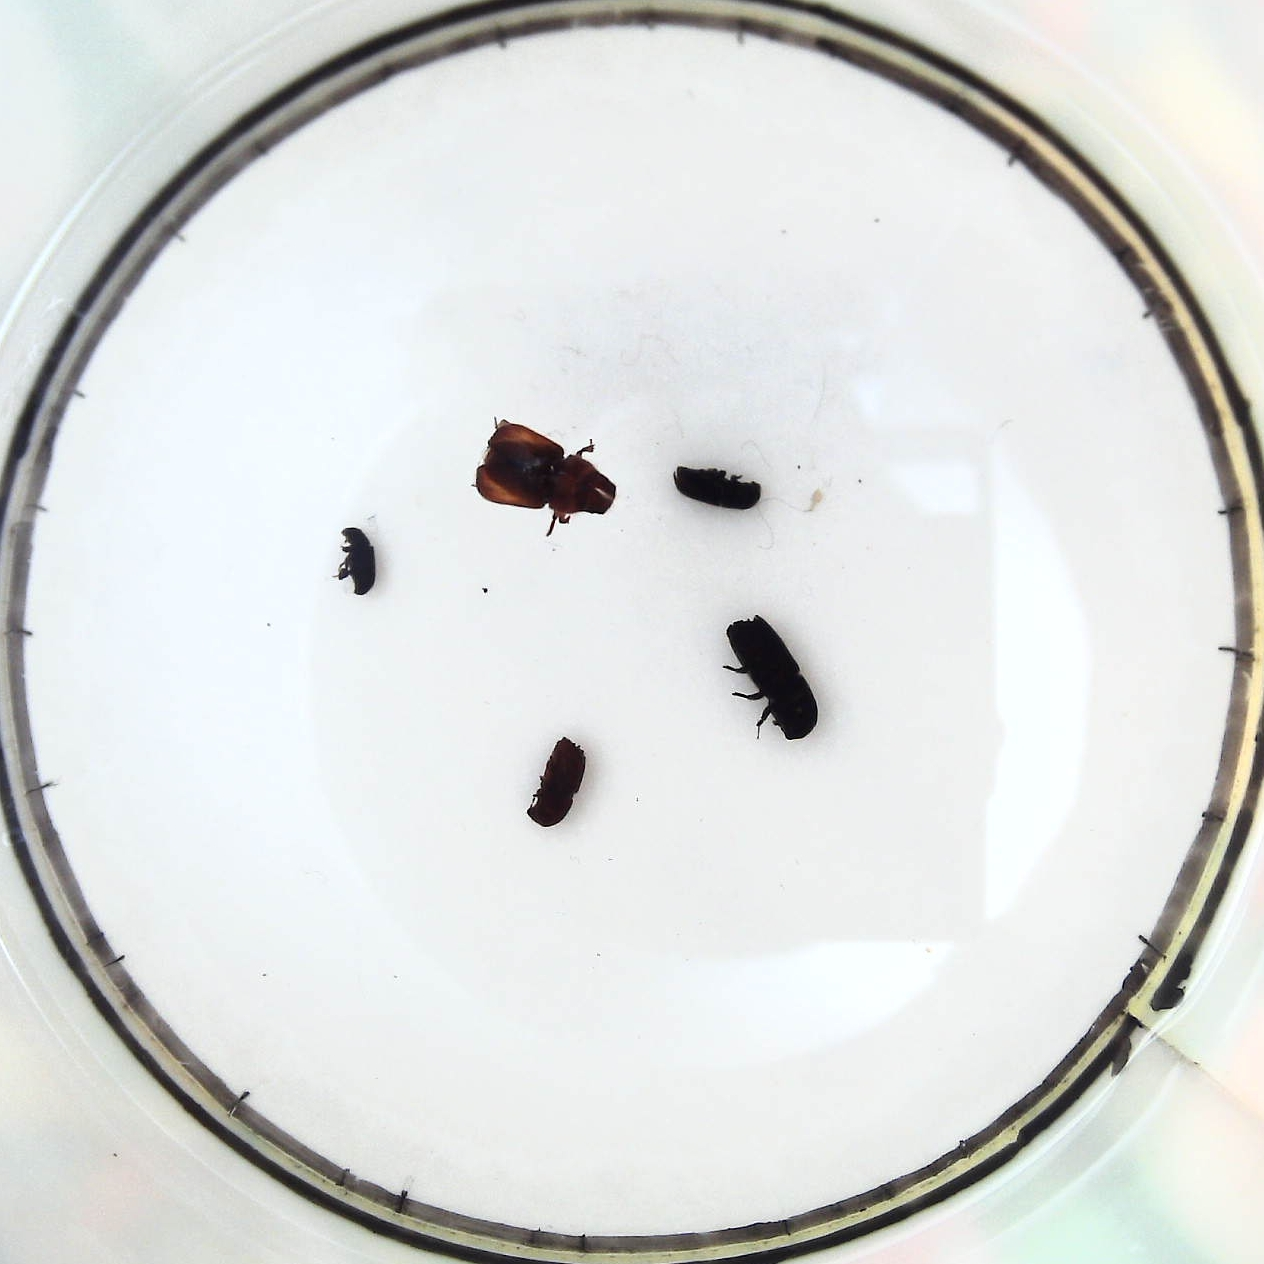Boerner: (723, 616, 818, 738)
Leconte: (475, 421, 619, 519)
Linnaeus: (531, 736, 588, 828)
armandi: (670, 463, 763, 513)
coleoptera: (336, 522, 377, 597)
